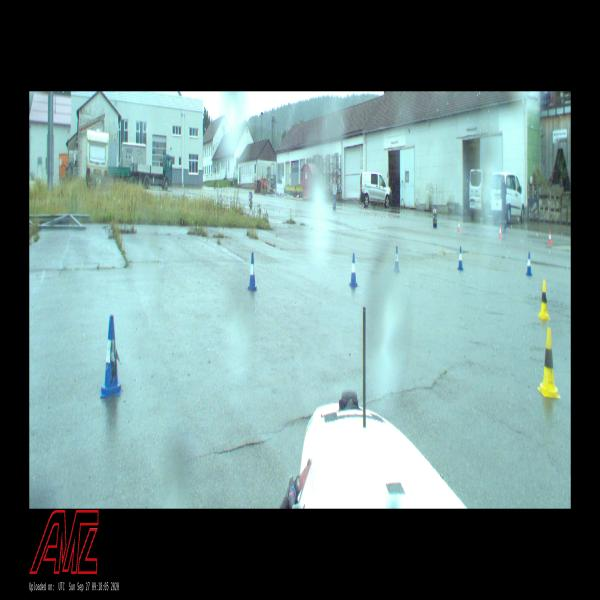blue_cone: (100, 315, 122, 398), (248, 252, 257, 291), (349, 252, 358, 287), (393, 245, 400, 274), (457, 246, 464, 271), (526, 252, 533, 276)
orange_cone: (548, 230, 552, 245), (498, 224, 502, 239), (458, 220, 460, 232)
yellow_cone: (537, 326, 561, 400), (537, 279, 551, 320)
